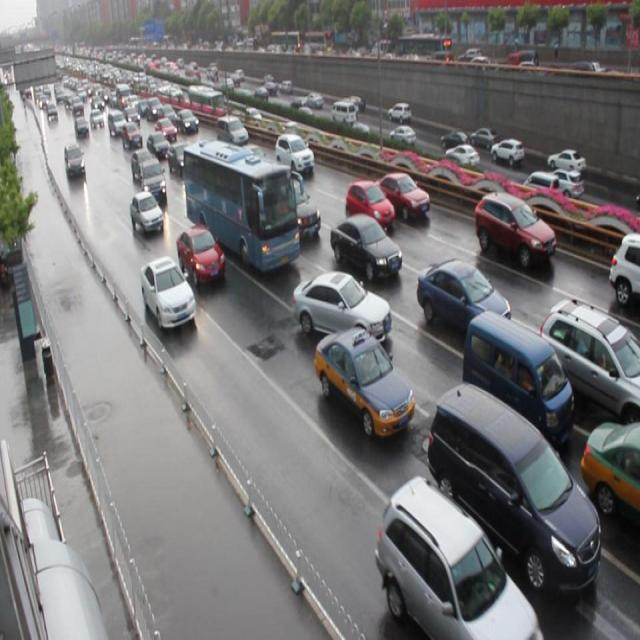car: (374, 473, 540, 640), (537, 296, 640, 427), (316, 324, 414, 436), (416, 256, 510, 340), (291, 270, 390, 343), (577, 418, 640, 528), (472, 188, 556, 267), (329, 212, 404, 282), (140, 254, 196, 330), (266, 174, 321, 242), (176, 222, 226, 288), (373, 170, 430, 222), (606, 228, 640, 304), (344, 179, 392, 230), (274, 130, 316, 176), (128, 190, 165, 234), (139, 157, 167, 200)
truck: (427, 382, 600, 595), (462, 308, 571, 439), (216, 112, 249, 146)
van: (182, 139, 299, 272)
